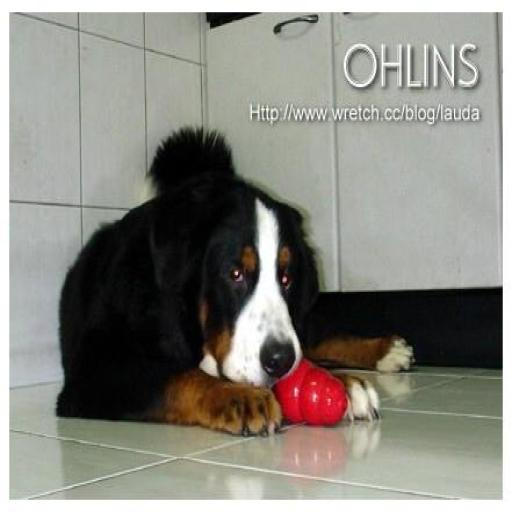dog_face: (148, 139, 318, 391)
